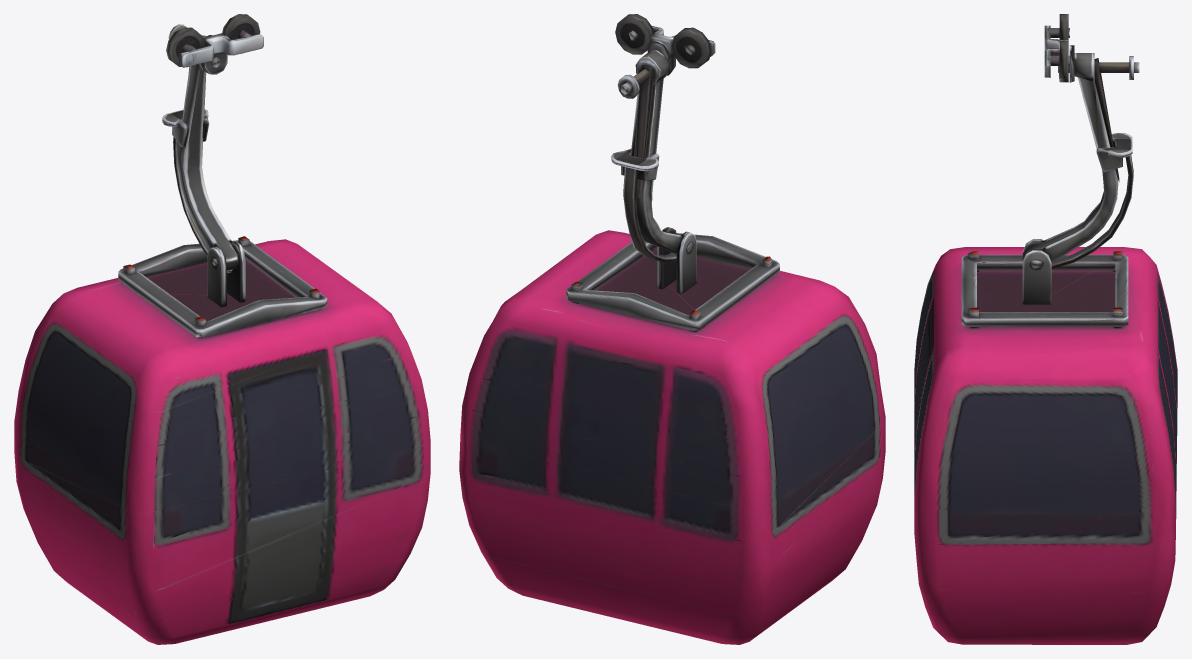
Rendered from SKI_BG_GondolaCabin-B1Tj0xEN.glb.
The picture shows the model from 3 angles, left to right: view 1: azimuth 30°, elevation 25°; view 2: azimuth 150°, elevation 25°; view 3: azimuth 270°, elevation 25°; orthographic projection. The views are drawn at different scales.
Visible parts, largest first — view 1: SKI_BG_GondolaCabin; view 2: SKI_BG_GondolaCabin; view 3: SKI_BG_GondolaCabin.
Part boxes in pixels (left/top/right/bottom): SKI_BG_GondolaCabin: left=14, top=14, right=430, bottom=644; SKI_BG_GondolaCabin: left=459, top=14, right=885, bottom=644; SKI_BG_GondolaCabin: left=914, top=14, right=1177, bottom=644.
Size of the model in its own units: 1.92 by 3.4 by 1.44.
Materials: 1 (1 with a texture image).
